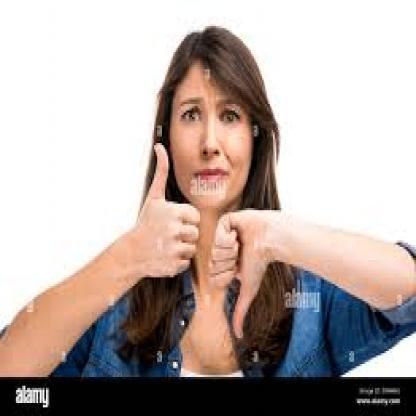thumb_down: (206, 207, 268, 342)
thumb_up: (135, 140, 201, 282)
